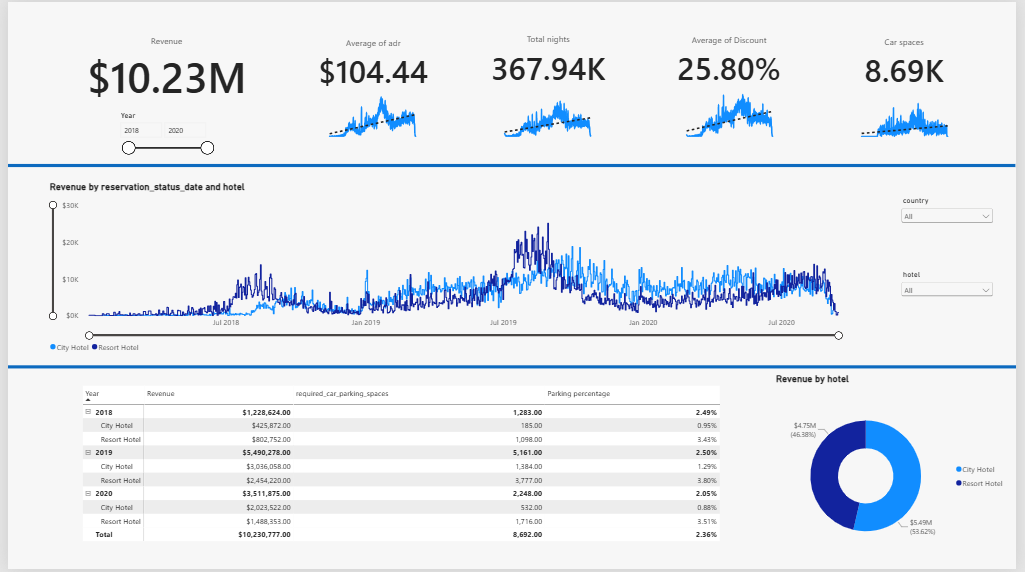

Layout of this report page (visuals, bound fields, positions):
{"tool":"powerbi","page":{"name":"Page 1","canvas":[1920,1080],"ordinal":0},"visuals":[{"type":"shape","box":[0,253.3,1919.1,116.2],"z":0},{"type":"shape","box":[0,636.7,1920,116.7],"z":1000},{"type":"cardVisual","fields":{"Data":["Sum(Query1.Revenue)"]},"box":[63.2,26.3,478.9,205.3],"z":2000},{"type":"cardVisual","fields":{"Data":["Avg(Query1.adr)"]},"box":[542.1,26.3,305.3,184.2],"z":3000},{"type":"cardVisual","fields":{"Data":["Query1.Total nights"]},"box":[852.6,26.3,352.6,171.1],"z":4000},{"type":"cardVisual","fields":{"Data":["Avg(Query1.Discount)"]},"box":[1205.3,26.3,334.2,173.7],"z":5000},{"type":"lineChart","title":"Revenue by reservation_status_date and hotel","fields":{"Category":["Query1.reservation_status_date"],"Series":["Query1.hotel"],"Y":["Sum(Query1.Revenue)"]},"box":[63.2,326.3,1560.5,360.5],"z":6000},{"type":"slicer","fields":{"Values":["Query1.country"]},"box":[1697.4,368.4,184.2,184.2],"z":7000},{"type":"slicer","fields":{"Values":["Query1.hotel"]},"box":[1697.4,510.5,184.2,184.2],"z":8000},{"type":"lineChart","fields":{"Category":["Query1.reservation_status_date"],"Y":["Sum(Query1.adr)"]},"box":[586.8,147.4,215.8,126.3],"z":9000},{"type":"lineChart","fields":{"Category":["Query1.reservation_status_date"],"Y":["Query1.Total nights"]},"box":[921.1,147.4,215.8,126.3],"z":10000},{"type":"lineChart","fields":{"Category":["Query1.reservation_status_date"],"Y":["Sum(Query1.Discount)"]},"box":[1265.8,147.4,215.8,126.3],"z":11000},{"type":"cardVisual","fields":{"Data":["Sum(Query1.required_car_parking_spaces)"]},"box":[1539.5,31.6,334.2,173.7],"z":12000},{"type":"lineChart","fields":{"Category":["Query1.reservation_status_date"],"Y":["Sum(Query1.required_car_parking_spaces)"]},"box":[1600,147.4,215.8,126.3],"z":13000},{"type":"donutChart","title":"Revenue by hotel","fields":{"Category":["Query1.hotel"],"Y":["Sum(Query1.Revenue)"]},"box":[1447.4,694.7,473,384],"z":14000},{"type":"pivotTable","fields":{"Rows":["Query1.reservation_status_date.Variation.Date Hierarchy.Year","Query1.hotel"],"Values":["Sum(Query1.Revenue)","Sum(Query1.required_car_parking_spaces)","Query1.Parking percentage"]},"box":[126.3,715.8,1247.4,363.2],"z":15000},{"type":"slicer","fields":{"Values":["Query1.reservation_status_date.Variation.Date Hierarchy.Year"]},"box":[207.9,205.3,189.5,142.1],"z":16000}]}

Visuals, with their boxes in screenshot pixels (x1, y1, x2, y2), scaled from the page's 1920x1080 canvas onto the 1025x572 screenshot:
shape: (0,134,1024,196)
shape: (0,337,1024,399)
cardVisual - Sum(Query1.Revenue): (34,14,289,123)
cardVisual - Avg(Query1.adr): (289,14,452,111)
cardVisual - Query1.Total nights: (455,14,643,105)
cardVisual - Avg(Query1.Discount): (643,14,822,106)
"Revenue by reservation_status_date and hotel" lineChart: (34,173,867,364)
slicer - Query1.country: (906,195,1004,293)
slicer - Query1.hotel: (906,270,1004,368)
lineChart - Query1.reservation_status_date x Sum(Query1.adr): (313,78,428,145)
lineChart - Query1.reservation_status_date x Query1.Total nights: (492,78,607,145)
lineChart - Query1.reservation_status_date x Sum(Query1.Discount): (676,78,791,145)
cardVisual - Sum(Query1.required_car_parking_spaces): (822,17,1000,109)
lineChart - Query1.reservation_status_date x Sum(Query1.required_car_parking_spaces): (854,78,969,145)
"Revenue by hotel" donutChart: (773,368,1024,571)
pivotTable - Query1.reservation_status_date.Variation.Date Hierarchy.Year x Query1.hotel: (67,379,733,571)
slicer - Query1.reservation_status_date.Variation.Date Hierarchy.Year: (111,109,212,184)
